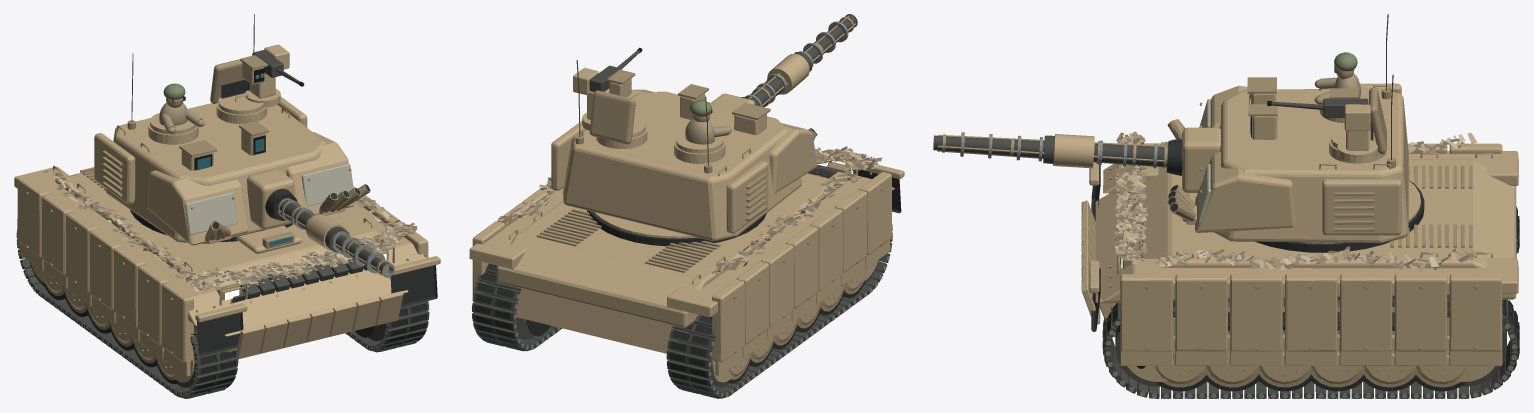
Rendered from challenger.glb.
3 renders of one model, left to right at view 1: azimuth 30°, elevation 25°; view 2: azimuth 150°, elevation 25°; view 3: azimuth 270°, elevation 25°, orthographic. The views are drawn at different scales.
Parts seen in each view (by area): view 1: body, turret; view 2: body, turret; view 3: body, turret.
Part boxes in pixels (box(x1,y1,x2,y2)): body: box(14, 83, 440, 398); turret: box(94, 14, 394, 277); body: box(469, 99, 904, 398); turret: box(551, 14, 857, 246); body: box(1081, 52, 1519, 398); turret: box(933, 14, 1424, 252).
Bounding box in the file's own units: 3.88 × 3.91 × 6.95.
